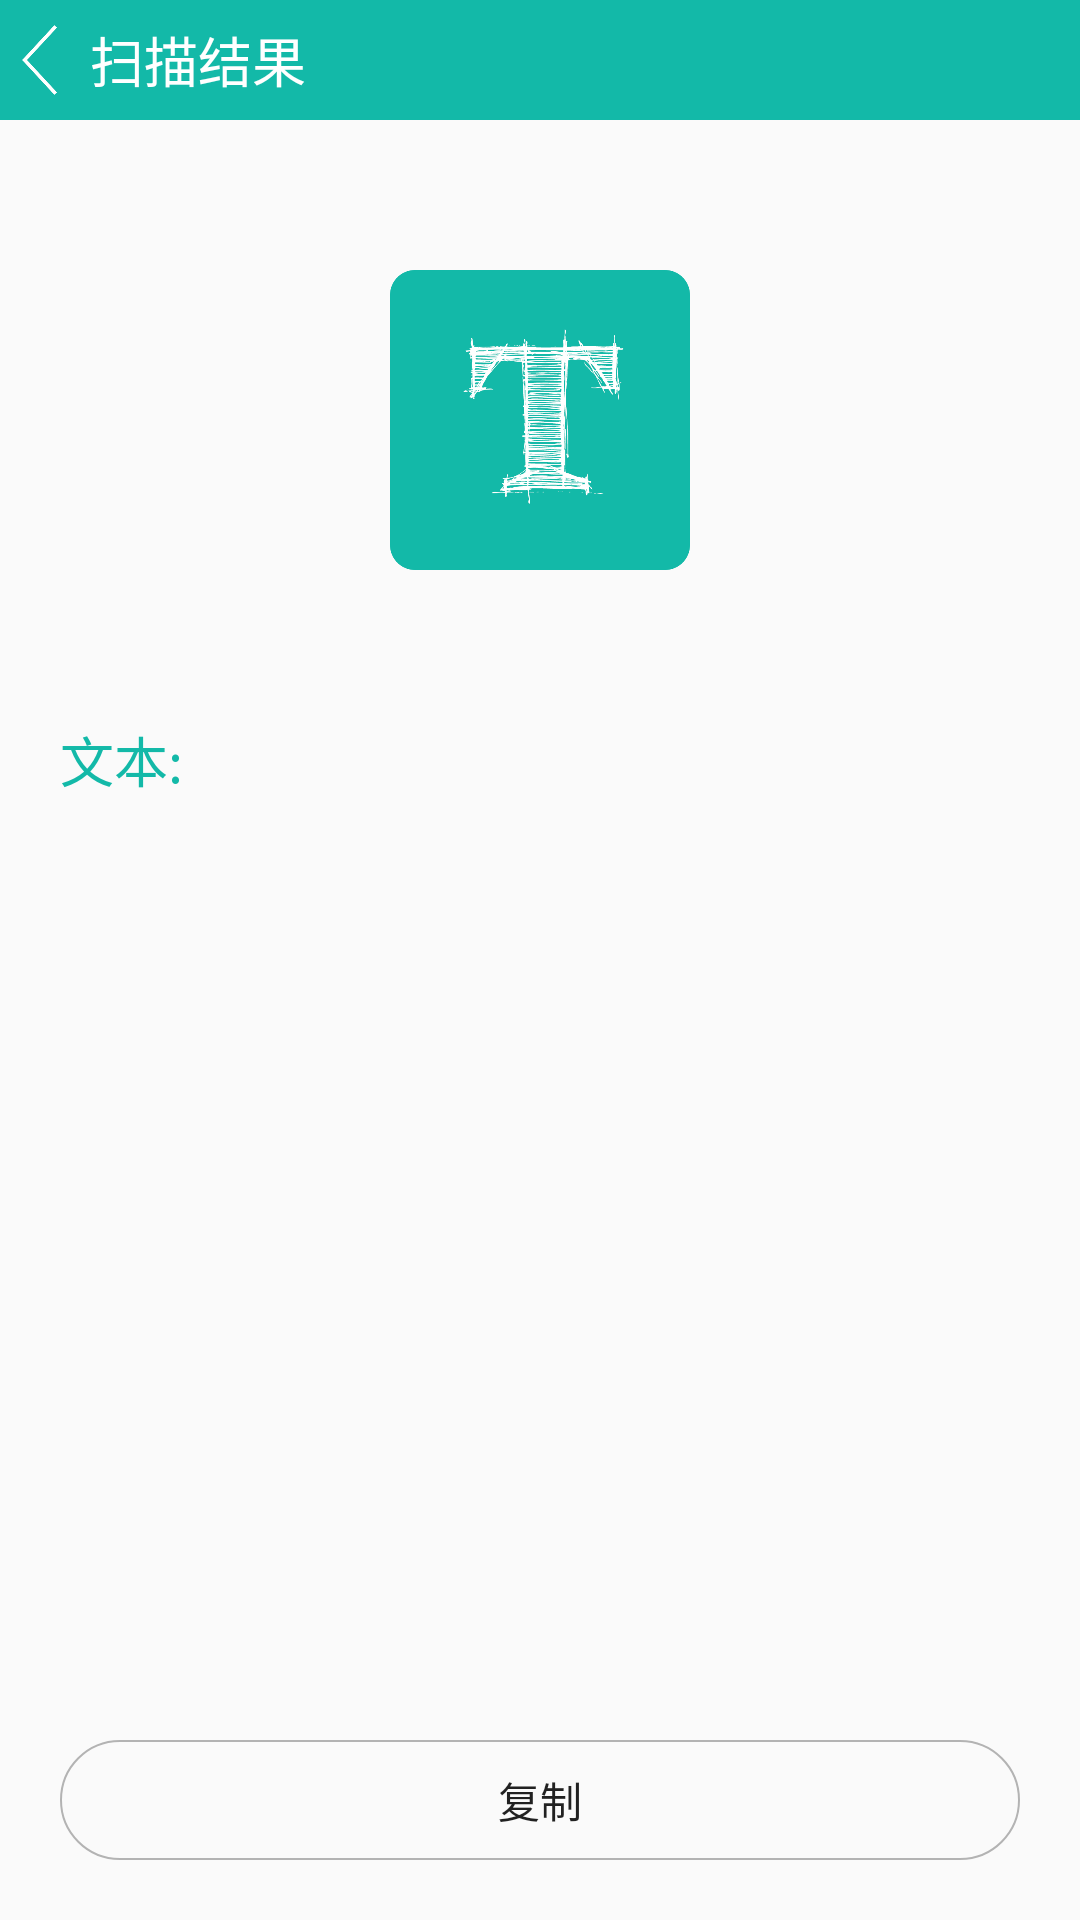

Point at icon controls on the screen. Image size 1080px×1920px, points as point (x, y).
arrow left: point (39, 60)
text: point (540, 420)
